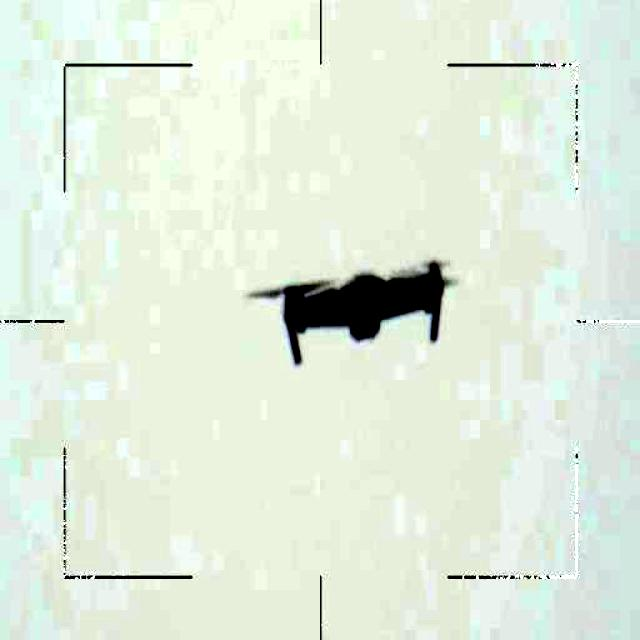bird: (238, 248, 468, 369)
